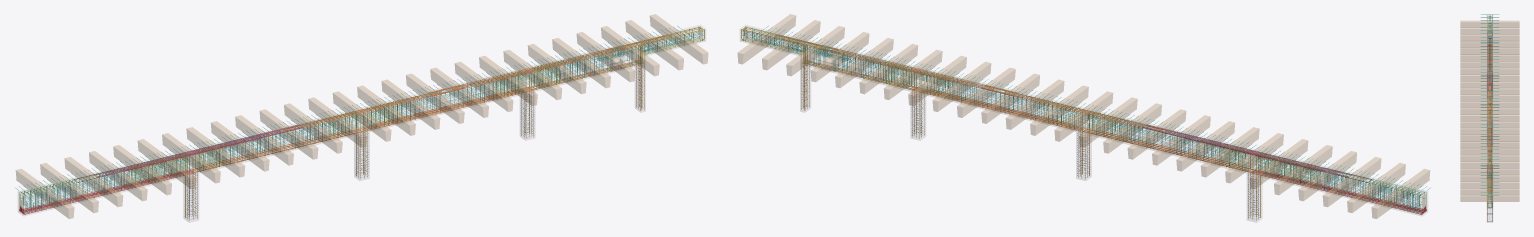
The model's file is unterzug-441-ft.glb.
3 views of the same model, side by side, from view 1: azimuth 30°, elevation 25°; view 2: azimuth 150°, elevation 25°; view 3: azimuth 270°, elevation 25° (orthographic). The views are drawn at different scales.
Parts seen in each view (by area): view 1: Beton, Fertigteiltraeger_3, Fertigteiltraeger_2, Fertigteiltraeger_1, Fertigteiltraeger_27, Fertigteiltraeger_13, Fertigteiltraeger_18, Fertigteiltraeger_17, Fertigteiltraeger_19, Fertigteiltraeger_11, Fertigteiltraeger_12, Fertigteiltraeger_14 (+16 smaller); view 2: Beton, Fertigteiltraeger_3, Fertigteiltraeger_1, Fertigteiltraeger_2, Fertigteiltraeger_27, Fertigteiltraeger_13, Fertigteiltraeger_19, Fertigteiltraeger_15, Fertigteiltraeger_18, Fertigteiltraeger_11, Fertigteiltraeger_17, Fertigteiltraeger_12 (+16 smaller); view 3: Beton, Fertigteiltraeger_18, Fertigteiltraeger_2, Fertigteiltraeger_19, Fertigteiltraeger_12, Fertigteiltraeger_3, Fertigteiltraeger_15, Fertigteiltraeger_22, Fertigteiltraeger_5, Fertigteiltraeger_6, Fertigteiltraeger_9, Fertigteiltraeger_25 (+29 smaller).
Boxes of the visible parts, left/top/right/bottom form: Beton: left=18, top=25, right=705, bottom=222; Fertigteiltraeger_3: left=64, top=157, right=122, bottom=206; Fertigteiltraeger_2: left=40, top=163, right=98, bottom=212; Fertigteiltraeger_1: left=16, top=169, right=74, bottom=218; Fertigteiltraeger_27: left=650, top=14, right=707, bottom=64; Fertigteiltraeger_13: left=308, top=97, right=366, bottom=147; Fertigteiltraeger_18: left=430, top=68, right=488, bottom=117; Fertigteiltraeger_17: left=406, top=74, right=464, bottom=123; Fertigteiltraeger_19: left=455, top=62, right=512, bottom=111; Fertigteiltraeger_11: left=260, top=109, right=317, bottom=159; Fertigteiltraeger_12: left=284, top=103, right=342, bottom=153; Fertigteiltraeger_14: left=333, top=91, right=391, bottom=141; Beton: left=740, top=25, right=1427, bottom=222; Fertigteiltraeger_3: left=1323, top=157, right=1381, bottom=206; Fertigteiltraeger_1: left=1371, top=169, right=1429, bottom=218; Fertigteiltraeger_2: left=1347, top=163, right=1405, bottom=212; Fertigteiltraeger_27: left=738, top=14, right=795, bottom=64; Fertigteiltraeger_13: left=1079, top=97, right=1137, bottom=147; Fertigteiltraeger_19: left=933, top=62, right=990, bottom=111; Fertigteiltraeger_15: left=1030, top=85, right=1088, bottom=135; Fertigteiltraeger_18: left=957, top=68, right=1015, bottom=117; Fertigteiltraeger_11: left=1128, top=109, right=1185, bottom=159; Fertigteiltraeger_17: left=981, top=74, right=1039, bottom=123; Fertigteiltraeger_12: left=1103, top=103, right=1161, bottom=153; Beton: left=1486, top=14, right=1493, bottom=222; Fertigteiltraeger_18: left=1460, top=134, right=1519, bottom=141; Fertigteiltraeger_2: left=1460, top=27, right=1519, bottom=34; Fertigteiltraeger_19: left=1460, top=141, right=1519, bottom=148; Fertigteiltraeger_12: left=1460, top=94, right=1519, bottom=101; Fertigteiltraeger_3: left=1460, top=34, right=1519, bottom=41; Fertigteiltraeger_15: left=1460, top=114, right=1519, bottom=121; Fertigteiltraeger_22: left=1460, top=161, right=1519, bottom=168; Fertigteiltraeger_5: left=1460, top=47, right=1519, bottom=54; Fertigteiltraeger_6: left=1460, top=54, right=1519, bottom=61; Fertigteiltraeger_9: left=1460, top=74, right=1519, bottom=81; Fertigteiltraeger_25: left=1460, top=181, right=1519, bottom=188.
Size of the model in its own units: 33.6 by 3.2 by 4.5.
